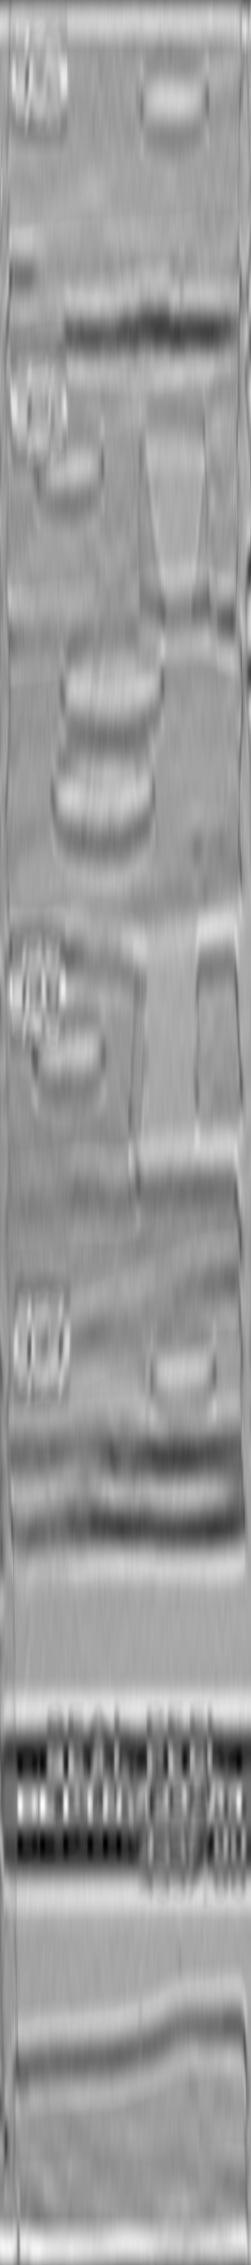hplug: (130, 48, 213, 142), (137, 1330, 226, 1414), (26, 1013, 114, 1096), (26, 426, 113, 507)
scal: (50, 631, 175, 740), (48, 744, 164, 851)
vplug: (128, 407, 224, 625), (123, 968, 212, 1198)
